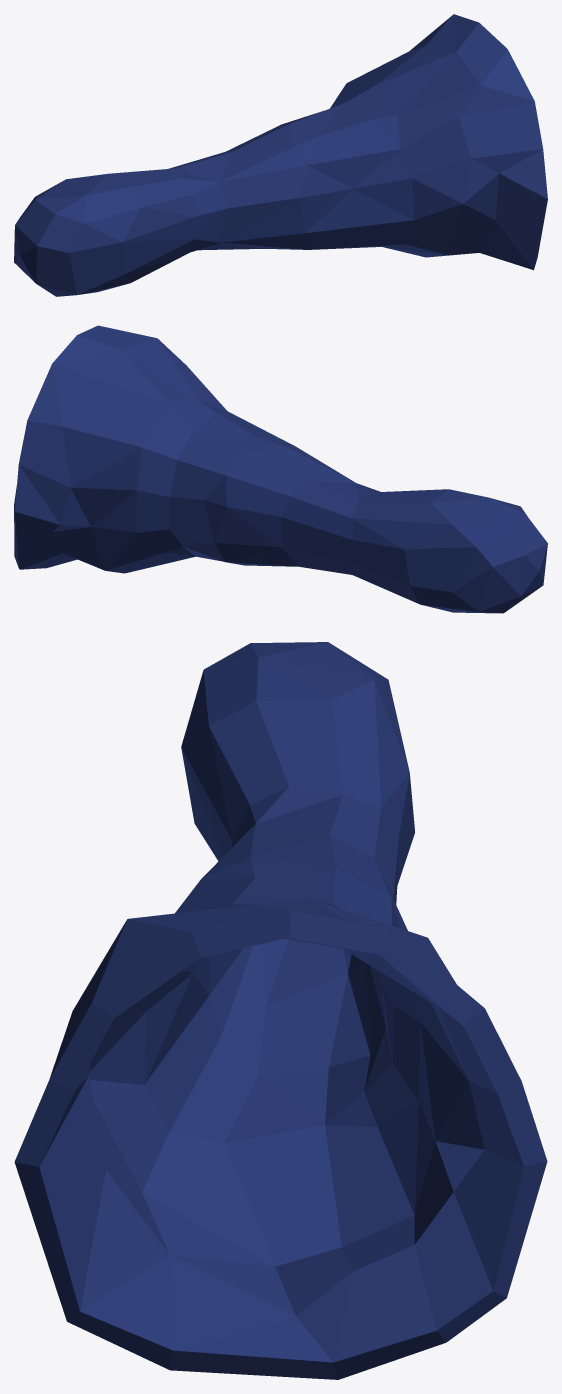
The model's file is Cave_01.fbx.
3 renders of one model, top to bottom at view 1: azimuth 30°, elevation 25°; view 2: azimuth 150°, elevation 25°; view 3: azimuth 270°, elevation 25°, orthographic. The views are drawn at different scales.
Parts seen in each view (by area): view 1: Cube; view 2: Cube; view 3: Cube.
Boxes of the visible parts, <box> form: Cube: <box>14,14,547,296</box>; Cube: <box>14,325,547,613</box>; Cube: <box>14,642,547,1379</box>.
Bounding box in the file's own units: 6961 × 3114 × 3324.
